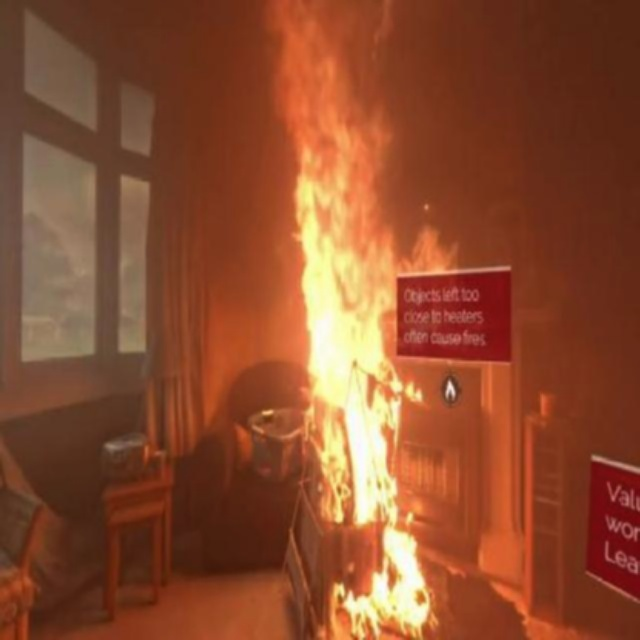fire: (258, 4, 423, 458)
